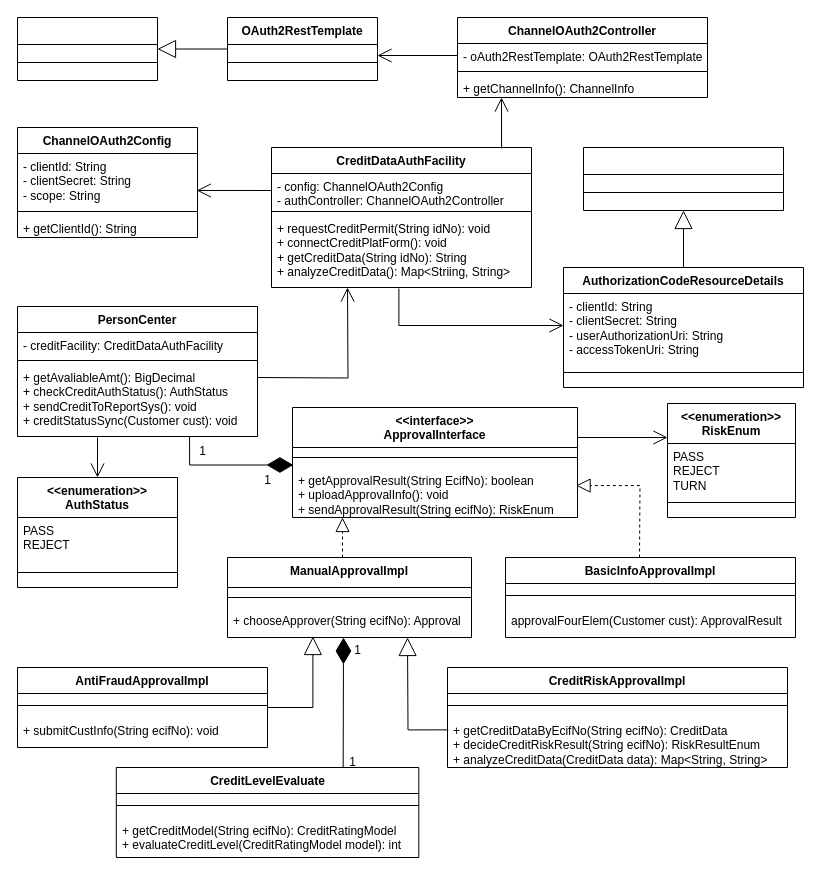
Image size: 821x878. Some labels were removed from this diagram. The centre of each missing label's shape, as x and y in pixels:
"OAuth2Operations" belongs at point (87, 48).
"OAuth2ProtectedResourceDetails" belongs at point (683, 178).
